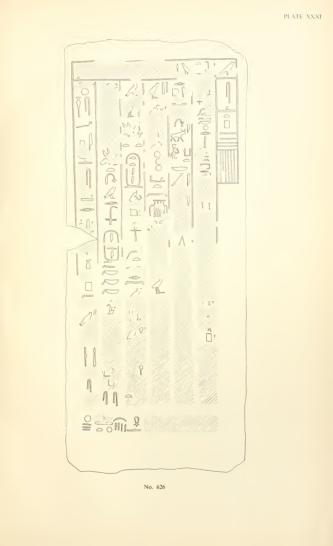circle: (123, 152, 145, 191), (101, 229, 120, 264)
